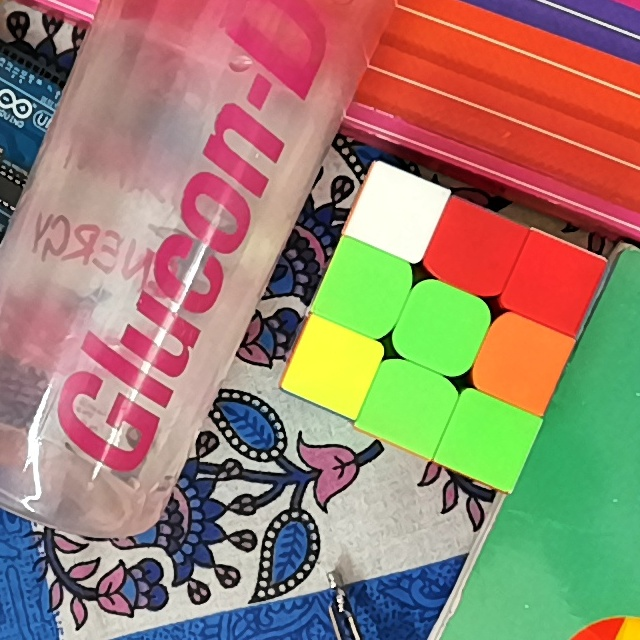tile: (335, 260, 397, 317), (522, 256, 584, 311), (409, 301, 471, 356), (378, 378, 441, 432), (493, 331, 550, 390), (368, 184, 424, 241), (445, 224, 504, 278), (456, 412, 514, 466), (305, 342, 362, 393)
